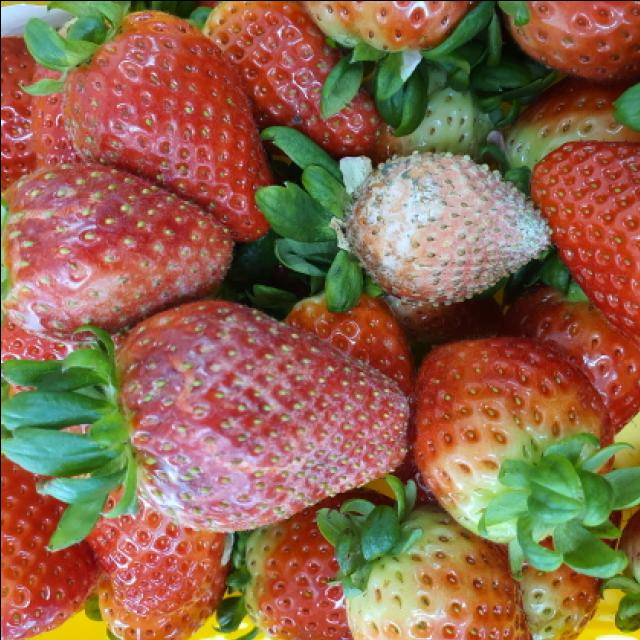Powdery Mildew Fruit: (108, 298, 410, 533), (0, 163, 233, 342), (342, 151, 553, 310)
